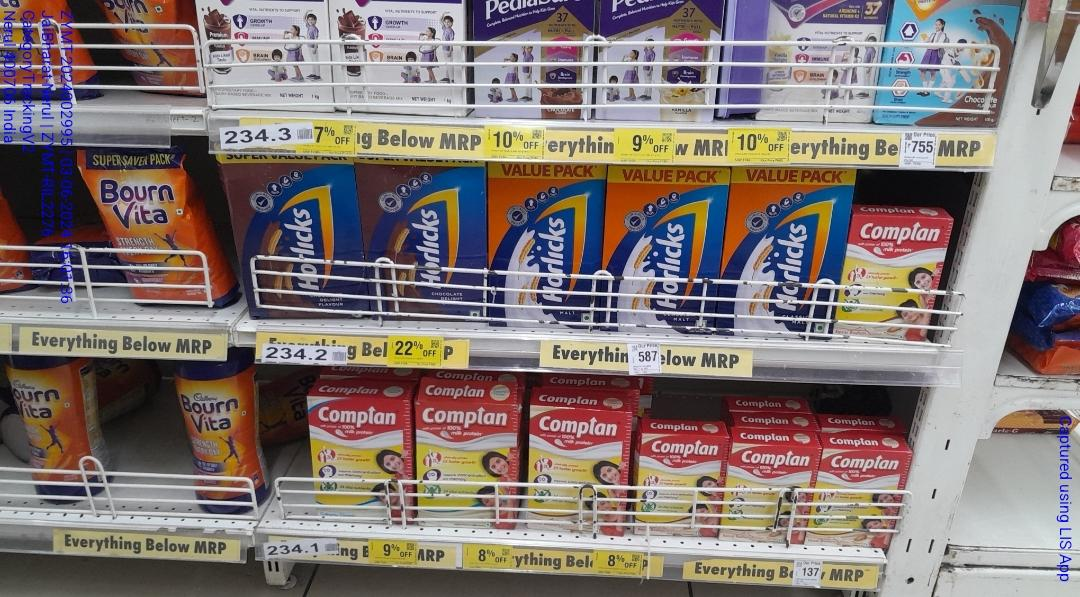BOURN_VITA_1_KG_JAR: (13, 357, 109, 493), (186, 361, 269, 511)
BOURN_VITA_750_G_POUCH: (108, 155, 220, 309)
COMPLAN_CREAMY_CLASSIC_500_G_PACK: (419, 402, 516, 529), (315, 399, 413, 511)
COMPLAN_KESAR_BADAM_200_GMS_PACK: (843, 213, 937, 337), (637, 432, 720, 540), (811, 451, 895, 551), (726, 445, 805, 544)
COMPLAN_KESAR_BADAM_500_GMS_PACK: (528, 409, 628, 537)
HORLICK_CHOCOLATE_1_KG_PACK: (238, 155, 357, 323), (366, 156, 484, 321)
PEDIASURE_CHOCOLATE_500_G_PACK: (473, 0, 595, 122)
